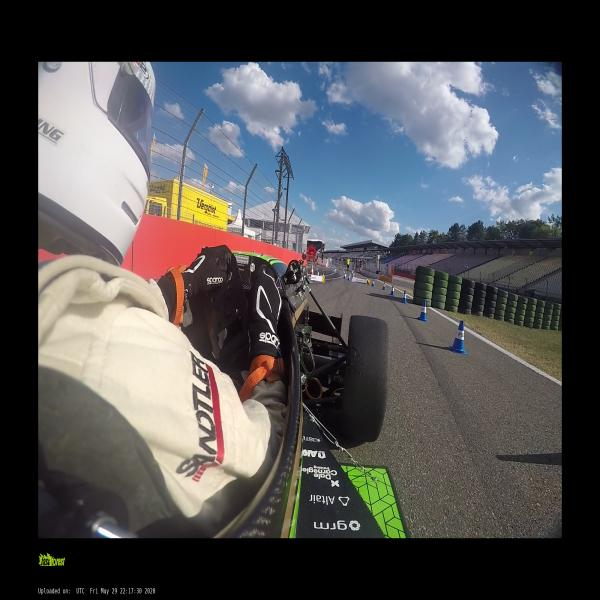blue_cone: (449, 320, 468, 354), (418, 300, 428, 322), (402, 290, 407, 303), (390, 285, 395, 296), (382, 281, 386, 290), (372, 279, 375, 287), (344, 273, 346, 279), (348, 274, 350, 280)
large_orange_cone: (310, 265, 313, 274)
yellow_cone: (320, 276, 325, 283), (366, 278, 371, 284)
